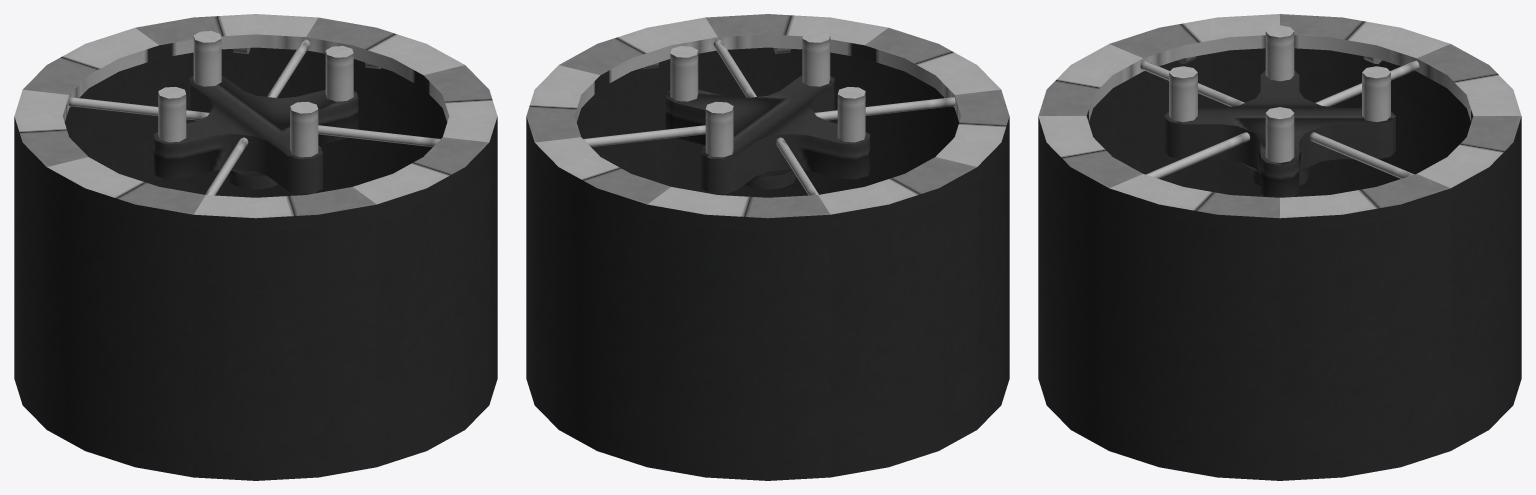
Rendered from arrow_engine_s1_2_bare.obj.
3 views of the same model, side by side, from view 1: azimuth 30°, elevation 25°; view 2: azimuth 150°, elevation 25°; view 3: azimuth 270°, elevation 25° (orthographic).
Visible parts, largest first — view 1: fairing1, mesh1; view 2: fairing1, mesh1; view 3: fairing1, mesh1.
Boxes of the visible parts, x1,y1,x2,y2 form: fairing1: (14,47,497,480); mesh1: (14,14,497,231); fairing1: (526,47,1009,480); mesh1: (526,14,1009,231); fairing1: (1038,48,1521,480); mesh1: (1038,14,1521,231).
Size of the model in its own units: 1.25 by 0.875 by 1.25.
